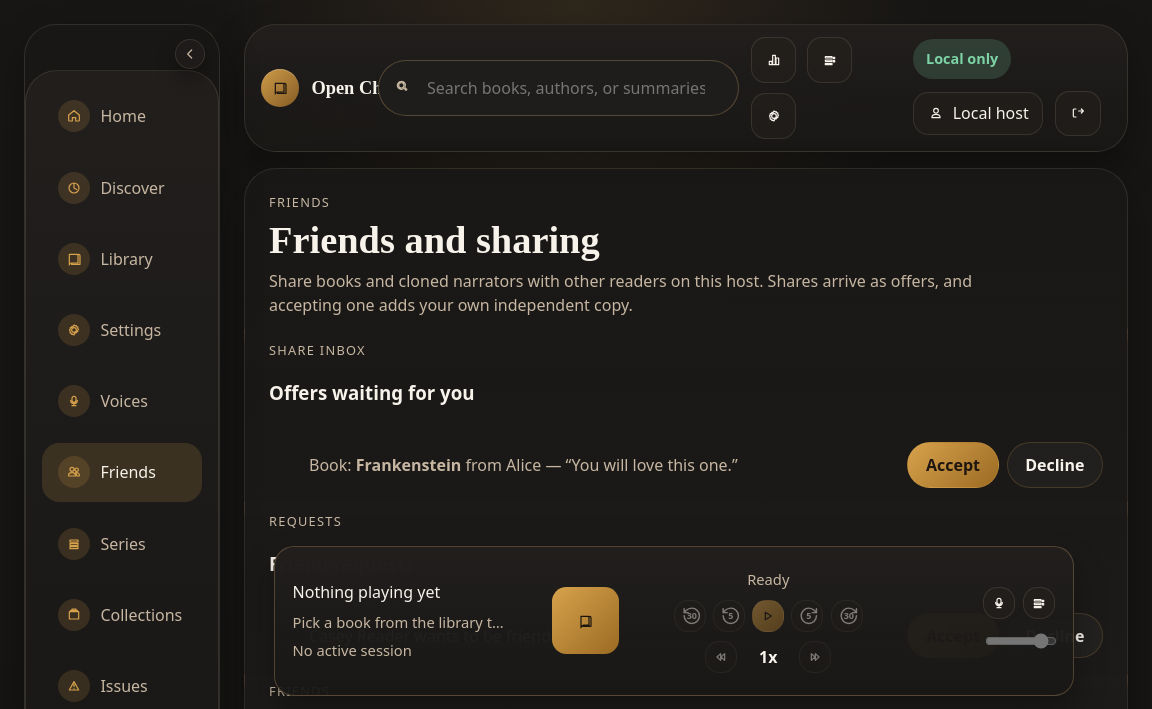
Test case: FriendsPage › accepts an incoming share and reports the new copy
Expected: the text "Frankenstein" is shown, [356, 454, 461, 476]
Step 1. Click the button "Accept" → (953, 465), box [907, 442, 998, 488]
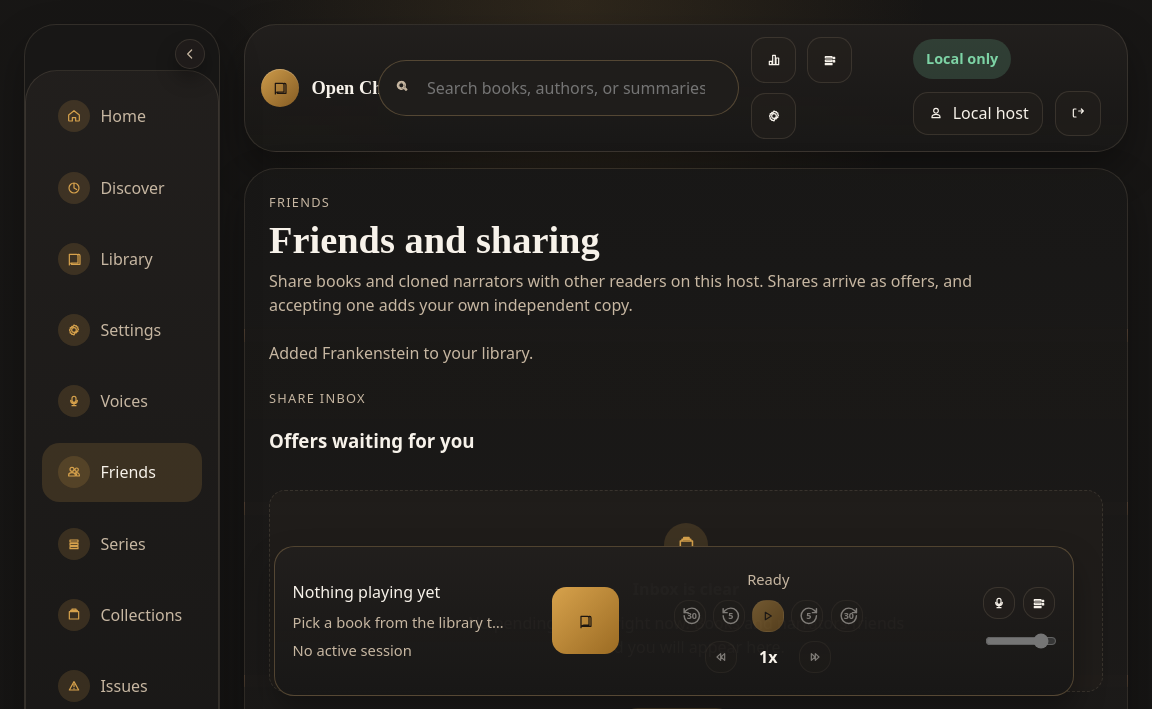
Now the text "Added Frankenstein to your library." is shown, box [269, 342, 533, 364]
